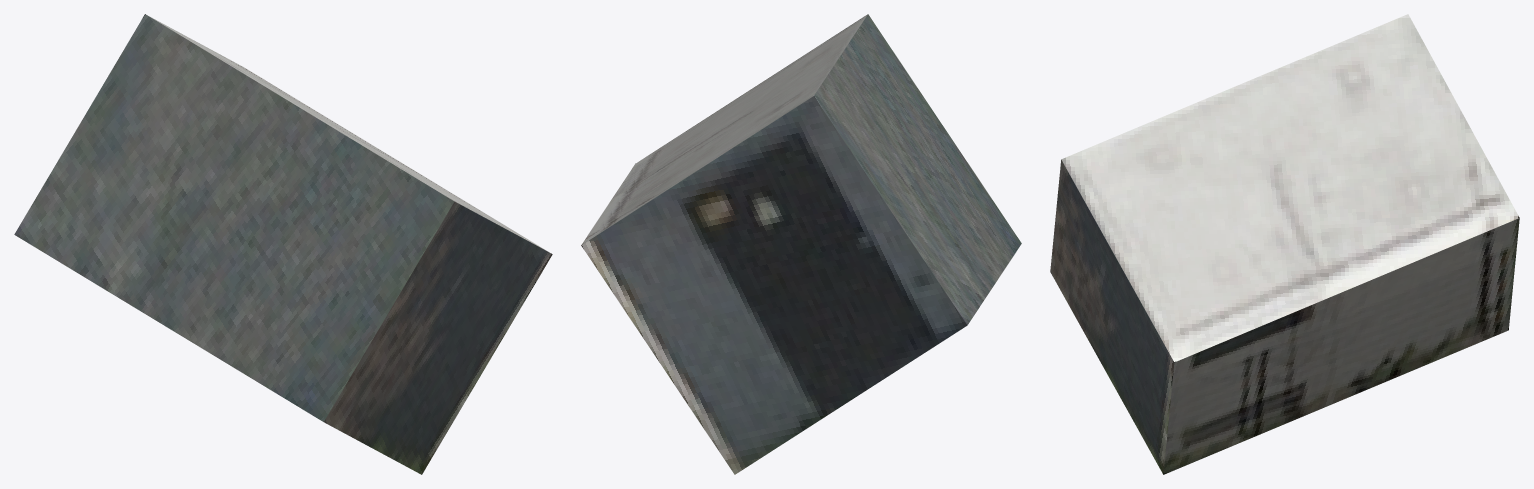
The picture shows the model from 3 angles, left to right: view 1: azimuth 30°, elevation 25°; view 2: azimuth 150°, elevation 25°; view 3: azimuth 270°, elevation 25°; orthographic projection. The views are drawn at different scales.
Parts seen in each view (by area): view 1: BAG_0599100100006630; view 2: BAG_0599100100006630; view 3: BAG_0599100100006630.
Boxes of the visible parts, <box> form: BAG_0599100100006630: <box>14,14,552,474</box>; BAG_0599100100006630: <box>581,14,1021,474</box>; BAG_0599100100006630: <box>1050,14,1519,474</box>.
Bounding box in the file's own units: 4.52 × 4.13 × 4.5.
1 material, 1 textured.
